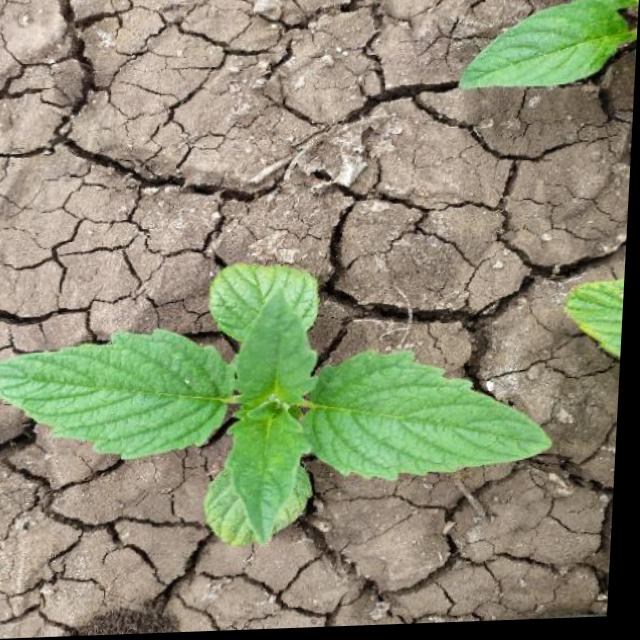crop: (0, 233, 576, 559)
